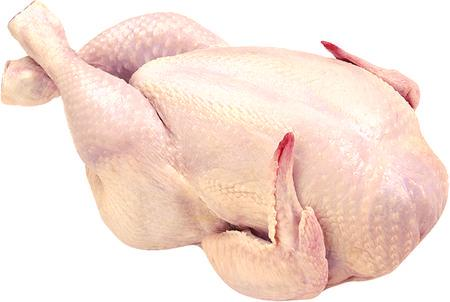chicken: (0, 0, 316, 142)
